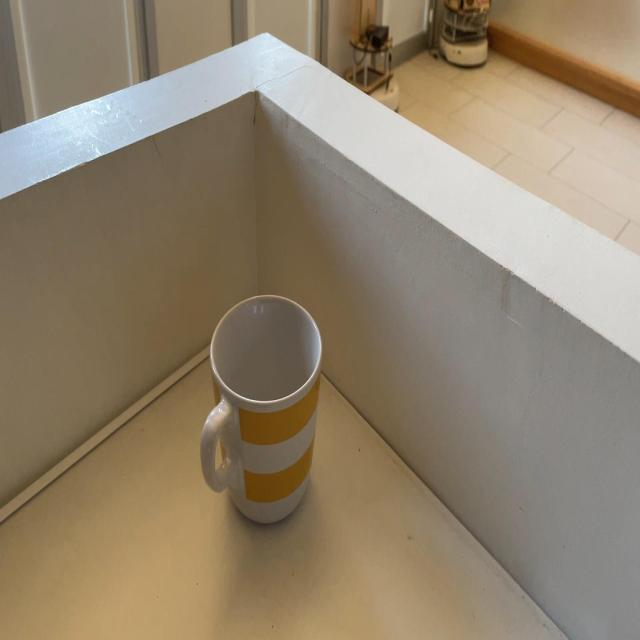cup: (202, 289, 331, 526)
